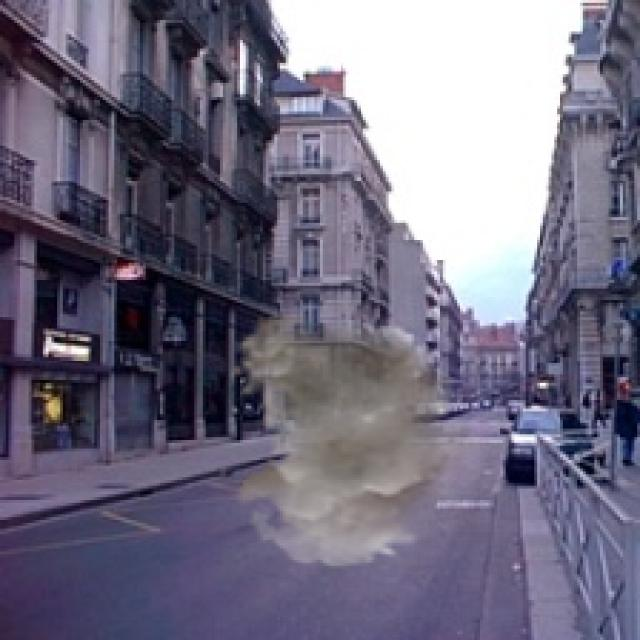smoke: (228, 312, 486, 568)
